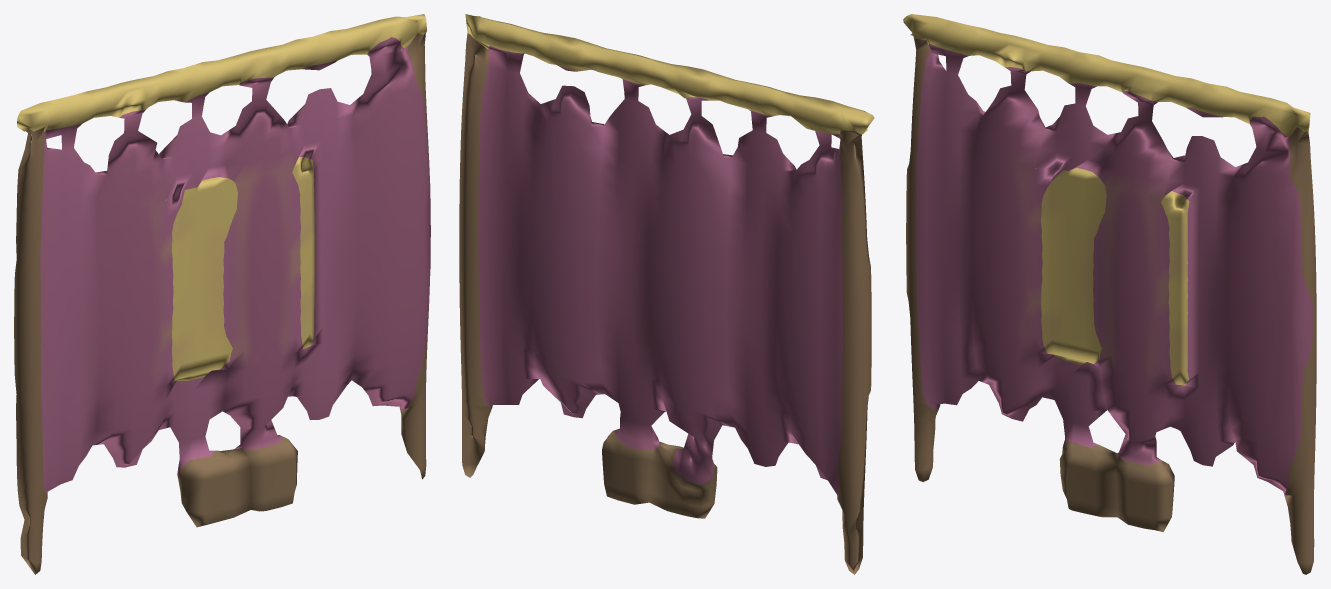
The model's file is arras.glb.
The picture shows the model from 3 angles, left to right: view 1: azimuth 30°, elevation 25°; view 2: azimuth 150°, elevation 25°; view 3: azimuth 330°, elevation 25°; orthographic projection.
Parts seen in each view (by area): view 1: arras; view 2: arras; view 3: arras.
Boxes of the visible parts, x1=… form: arras: x1=14, y1=14, x2=430, y2=574; arras: x1=459, y1=14, x2=874, y2=574; arras: x1=903, y1=14, x2=1316, y2=574.
Bounding box in the file's own units: 98.64 × 107 × 9.81.
